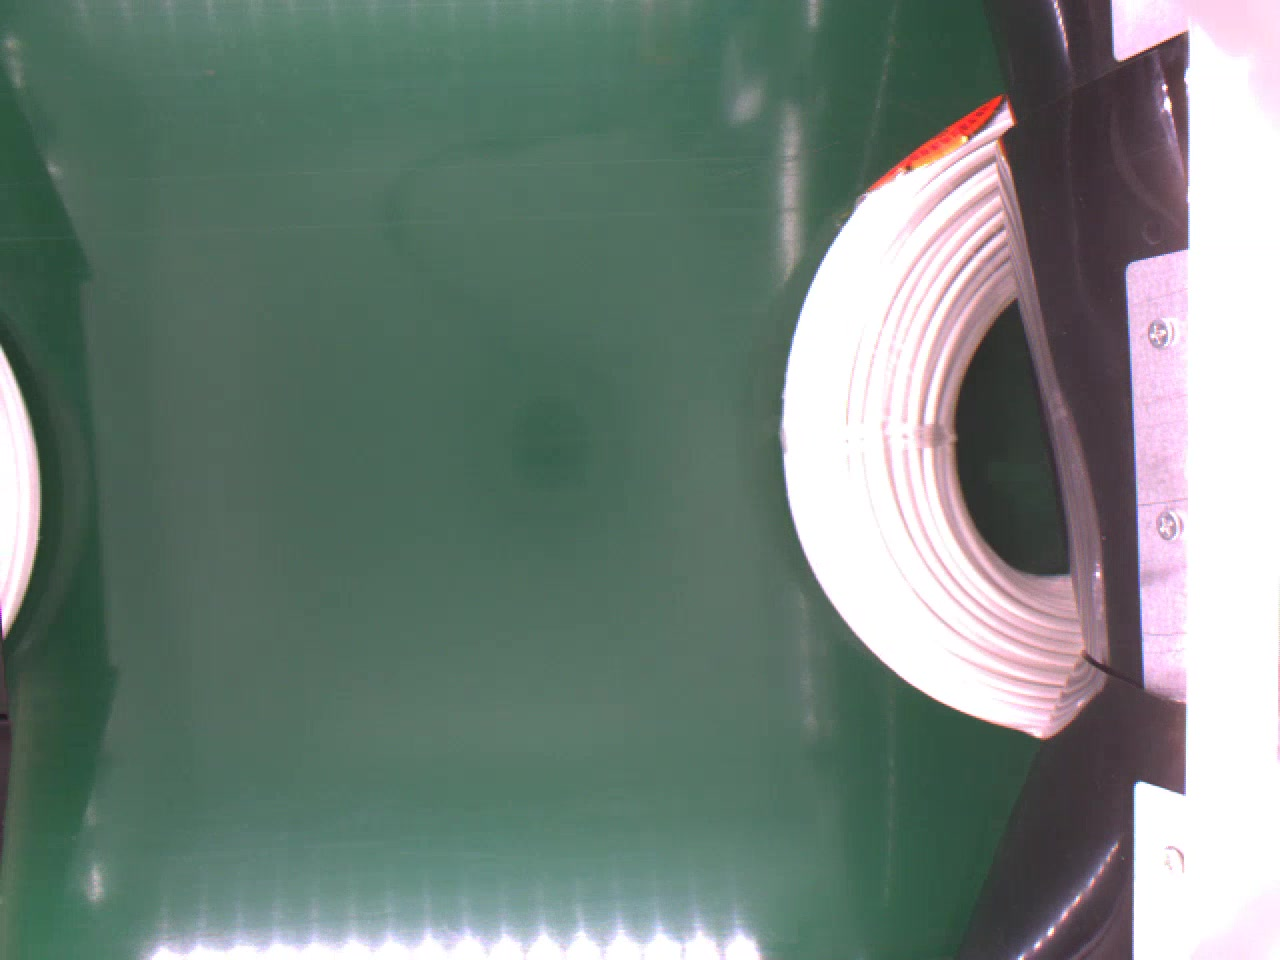white: (782, 94, 1084, 738)
